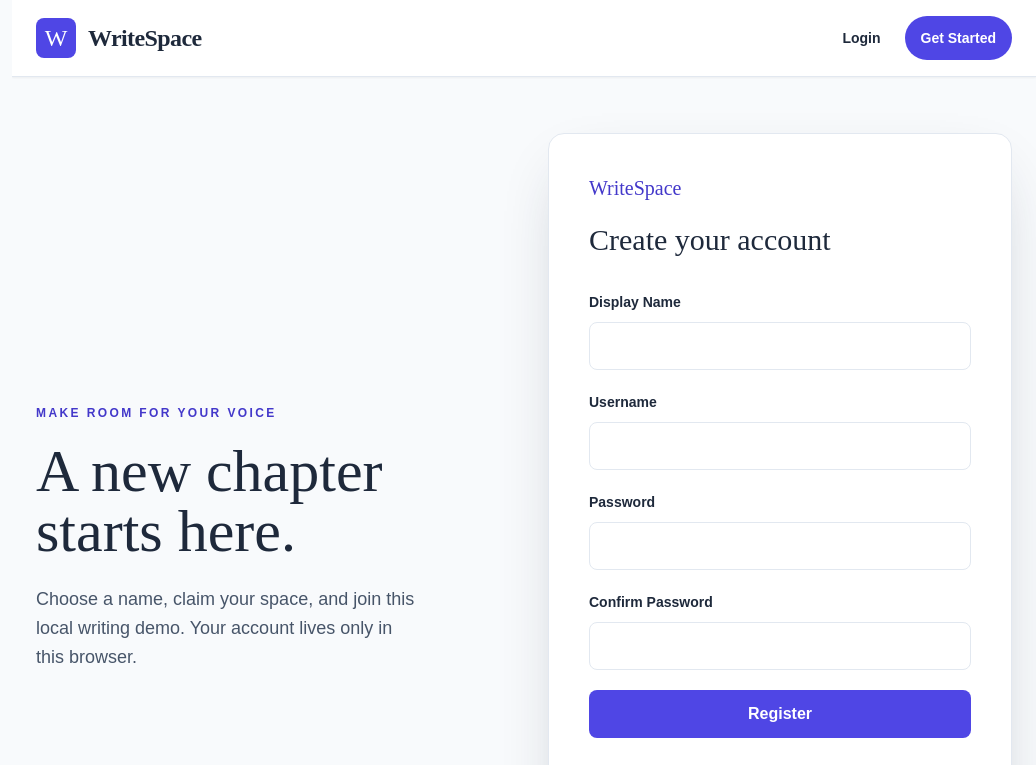
Test: forms and persistence › shows required registration fields, mismatched confirmation and reserved username
The image size is (1036, 765).
Click the button "Register" at point(780, 714), box x1=589 y1=690 x2=971 y2=738
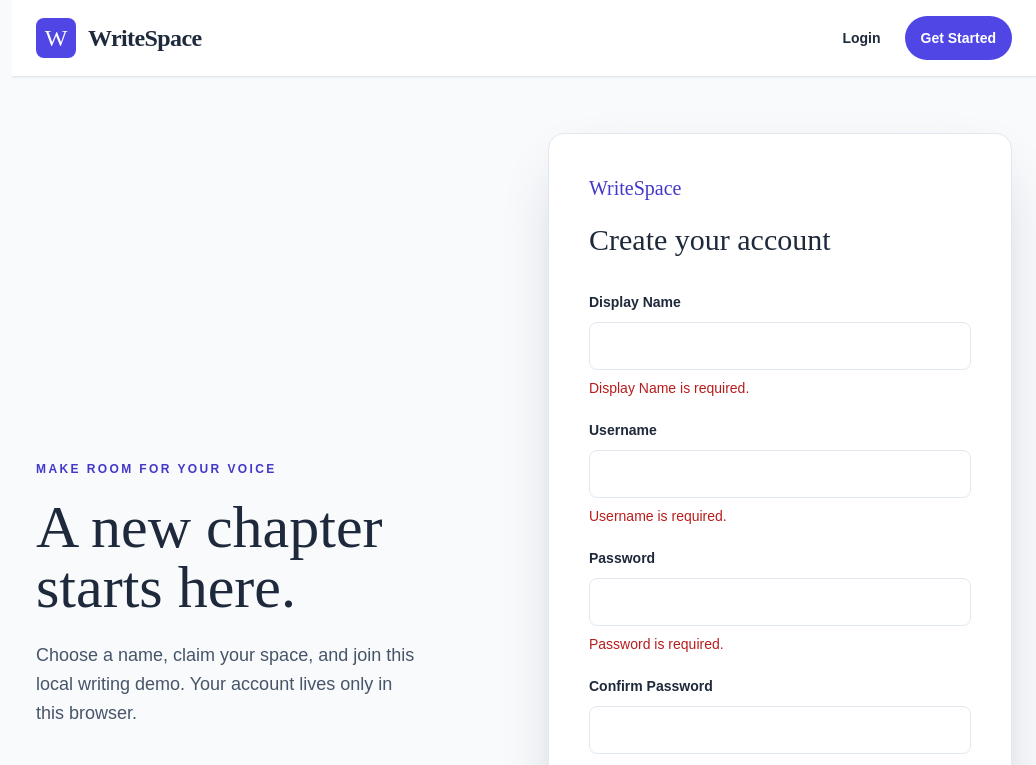
Type "Ada Lovelace" into the field labelled "Display Name" at point(780, 346), box x1=589 y1=322 x2=971 y2=370
Type "admin" into the field labelled "Username" at point(780, 474), box x1=589 y1=450 x2=971 y2=498
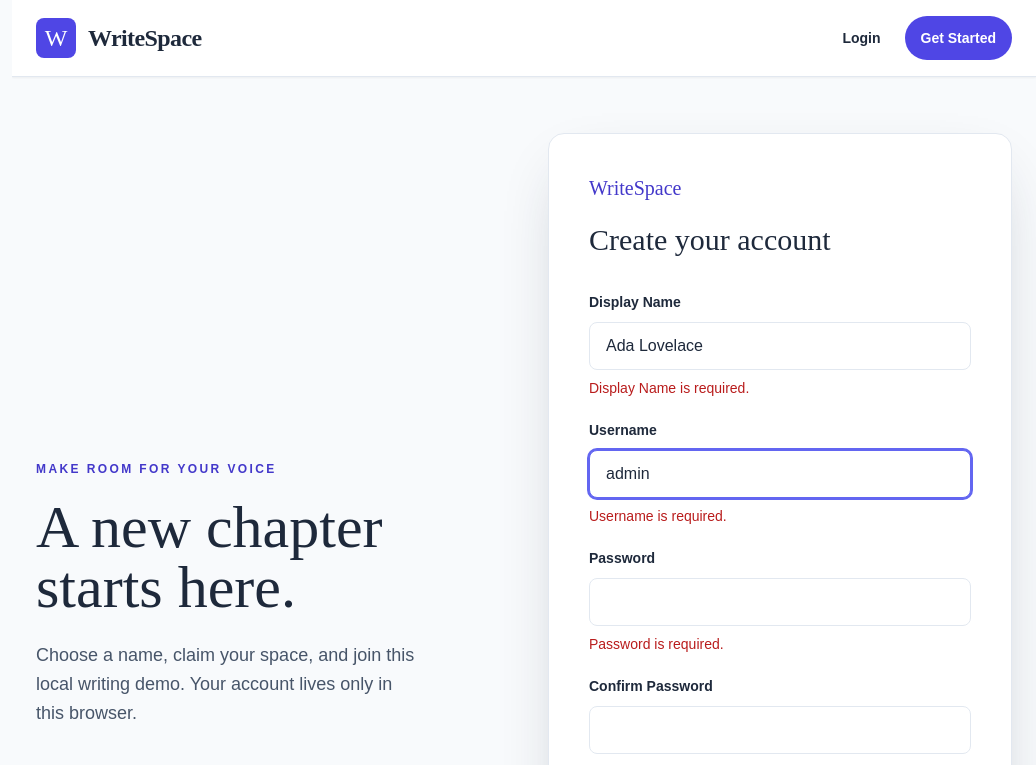
Type "demo" into the password field labelled "Password" at point(780, 602), box x1=589 y1=578 x2=971 y2=626
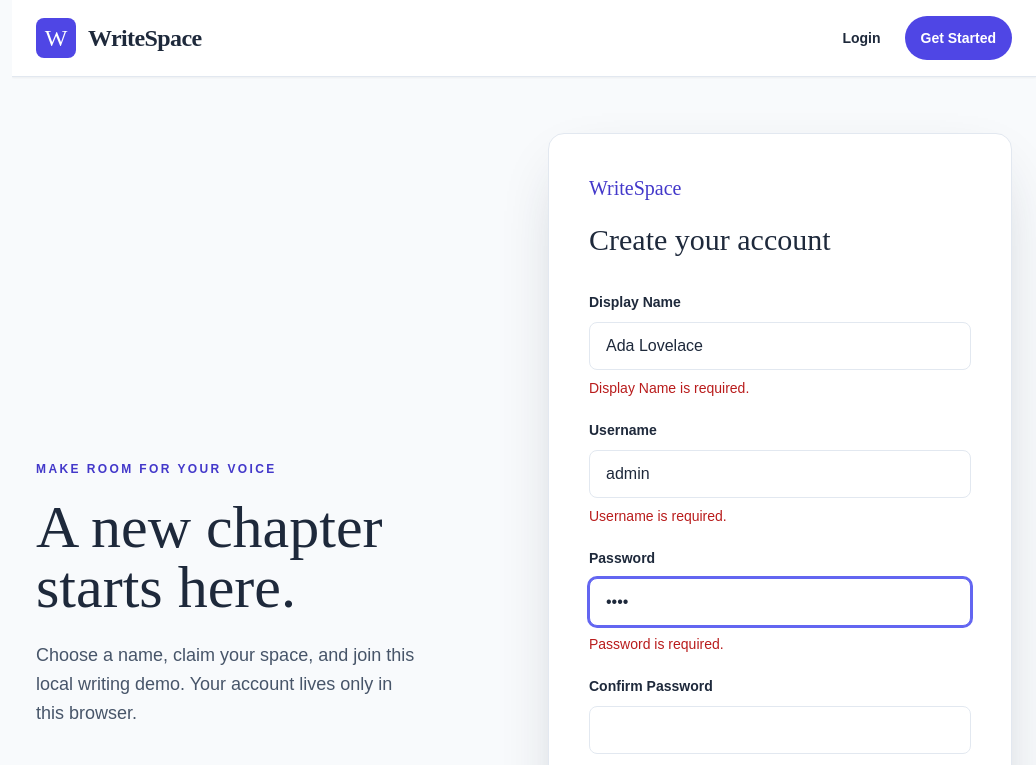
Type "demo" into the password field labelled "Confirm Password" at point(780, 730), box x1=589 y1=706 x2=971 y2=754
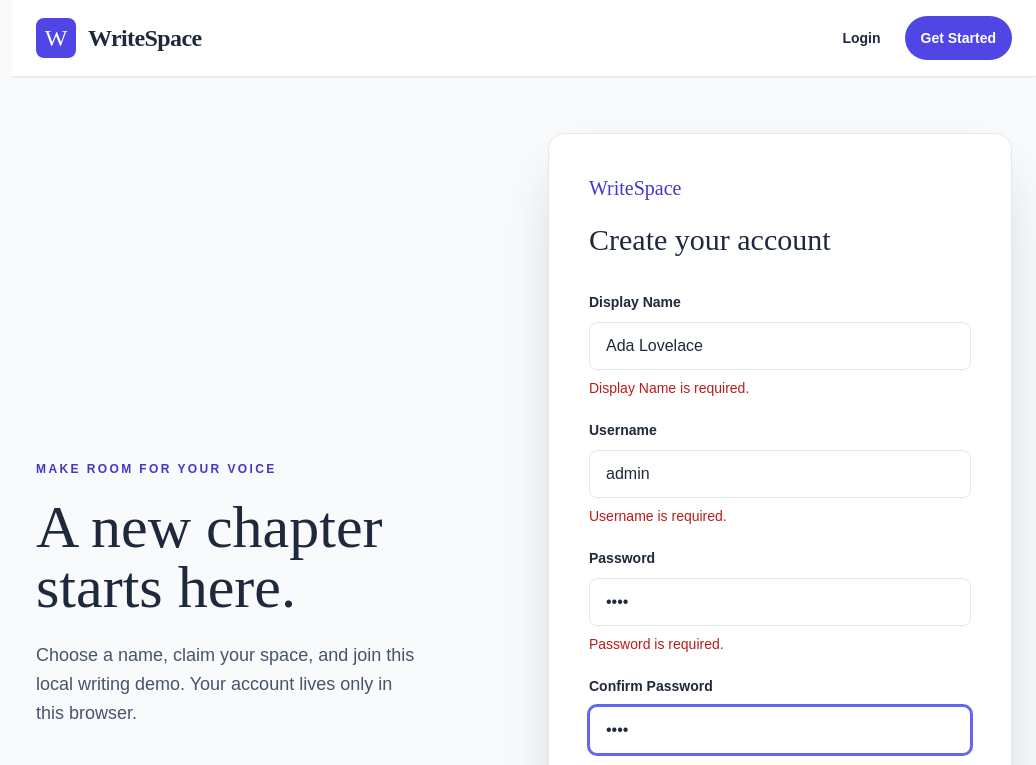
Type "other" into the password field labelled "Confirm Password" at point(780, 730), box x1=589 y1=706 x2=971 y2=754
(page scrolled)
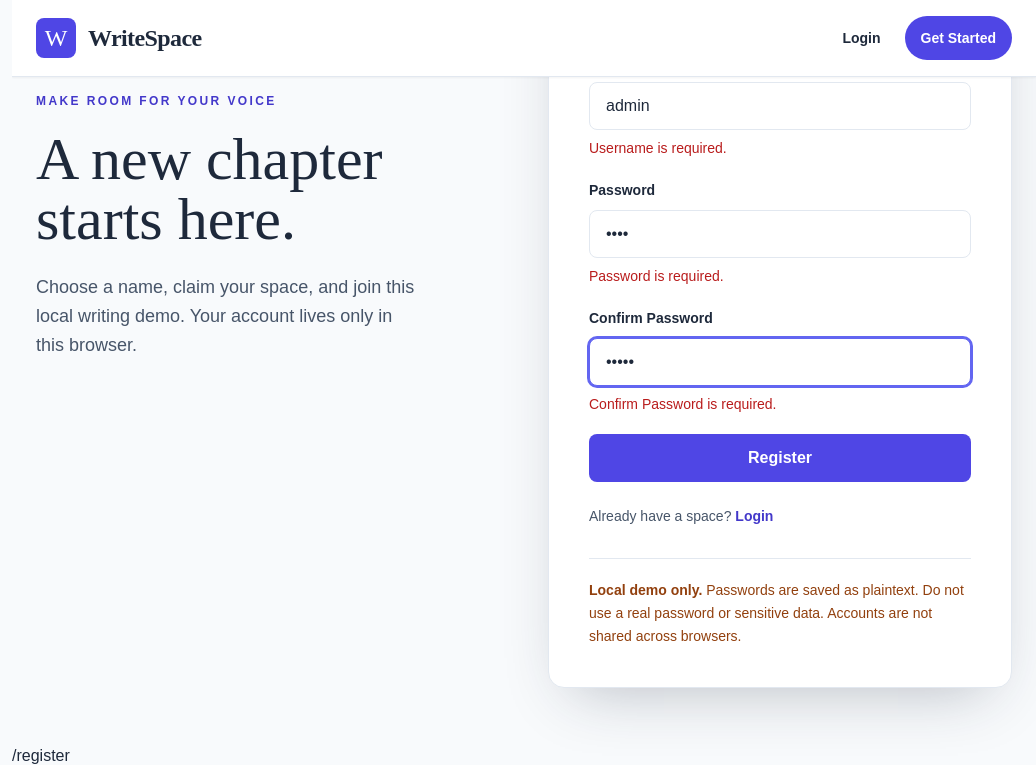
Click the button "Register" at point(780, 458), box x1=589 y1=434 x2=971 y2=482
(page scrolled)
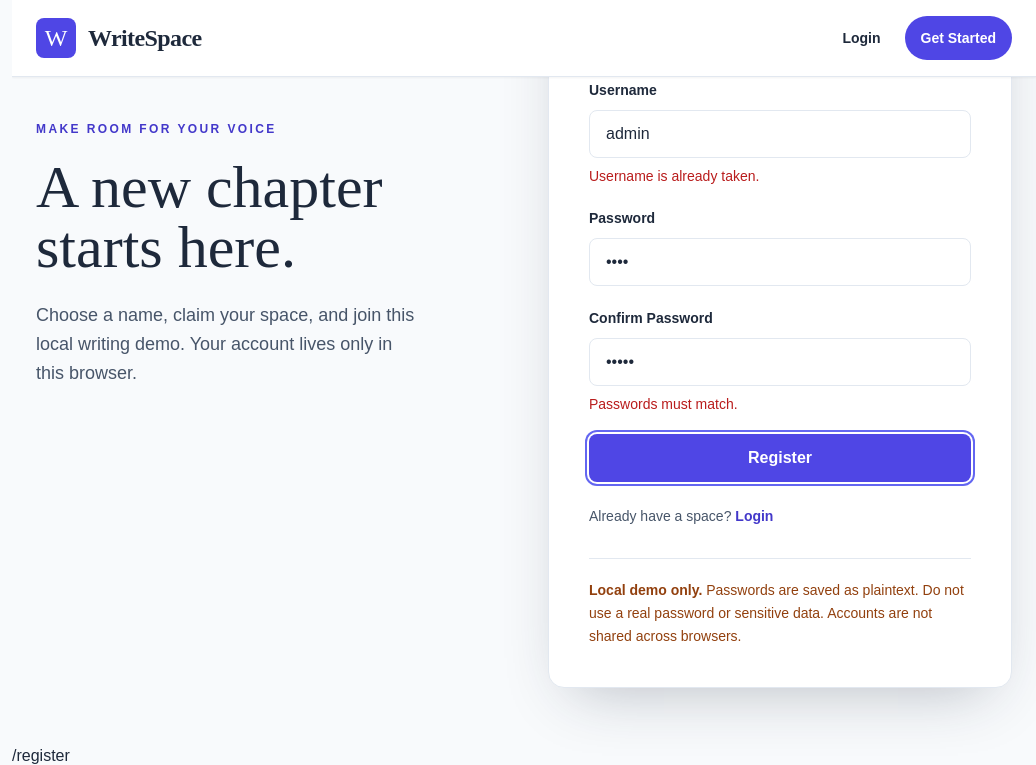
Now the text "Passwords must match." is shown, box x1=589 y1=396 x2=738 y2=412
Now the text "Username is already taken." is shown, box x1=589 y1=168 x2=759 y2=184
